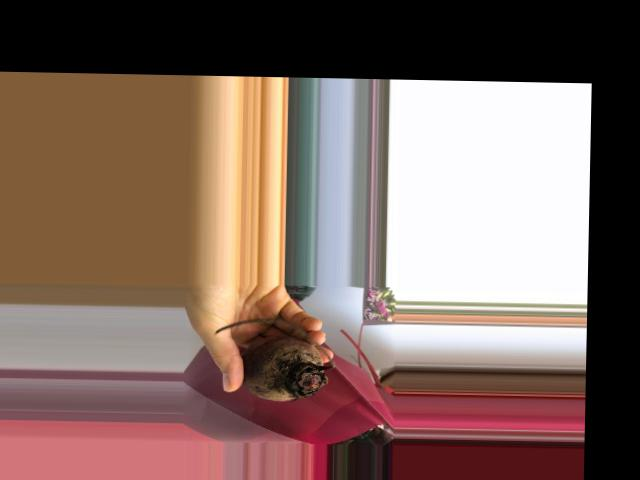beet: (214, 317, 337, 402)
